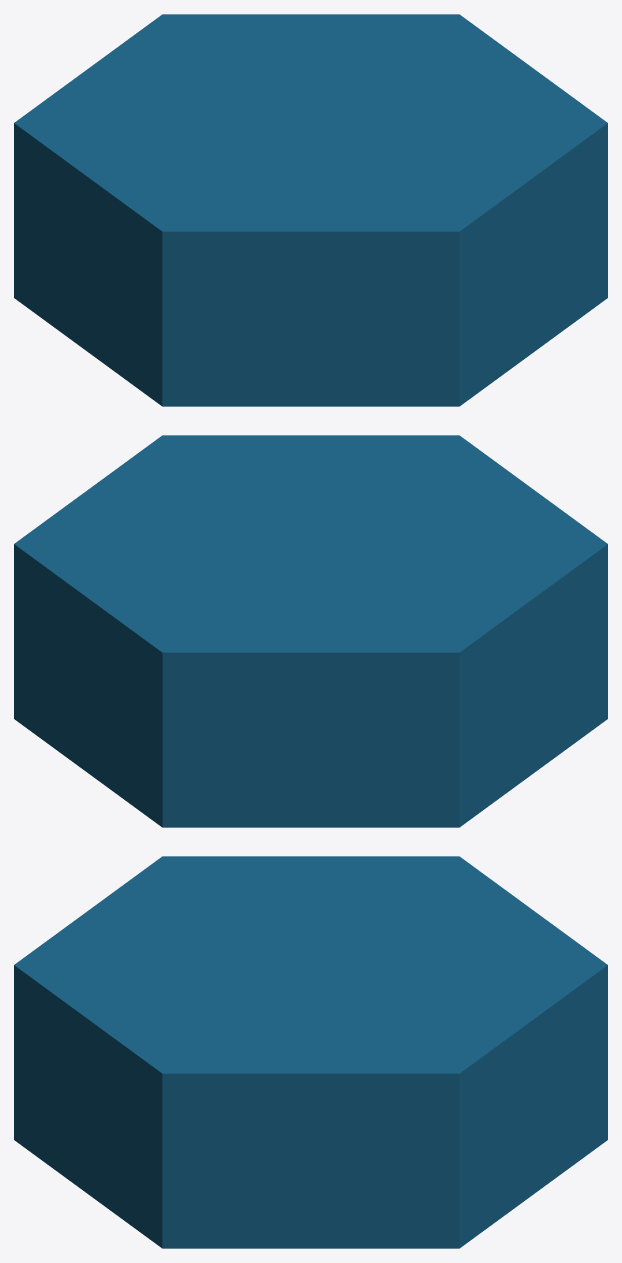
File: _deep_water_tile_1.glb
3 views of the same model, one above another, from view 1: azimuth 30°, elevation 25°; view 2: azimuth 150°, elevation 25°; view 3: azimuth 270°, elevation 25° (orthographic).
Parts seen in each view (by area): view 1: DeepWaterTileHalf; view 2: DeepWaterTileHalf; view 3: DeepWaterTileHalf.
Boxes of the visible parts, x1=… form: DeepWaterTileHalf: x1=14, y1=14, x2=607, y2=406; DeepWaterTileHalf: x1=14, y1=435, x2=607, y2=827; DeepWaterTileHalf: x1=14, y1=856, x2=607, y2=1248.
Bounding box in the file's own units: 1.73 × 0.65 × 2.
Materials: 1 (1 with a texture image).
